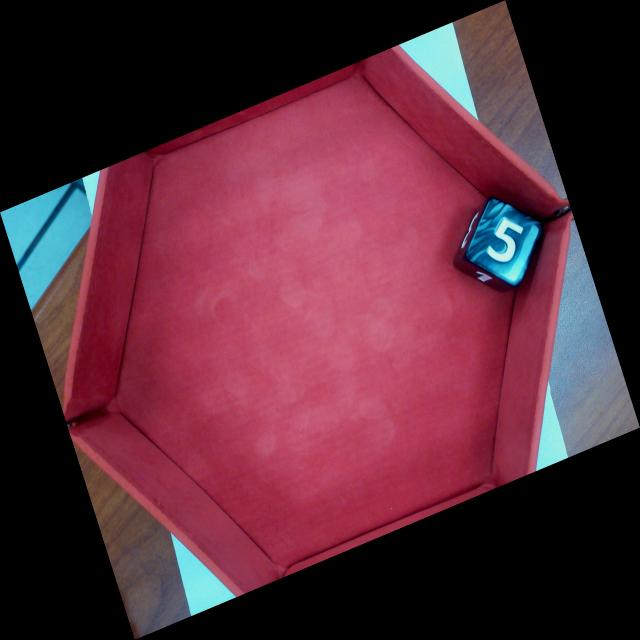dice: (461, 193, 549, 290)
